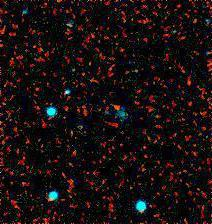star: (103, 92, 133, 122)
